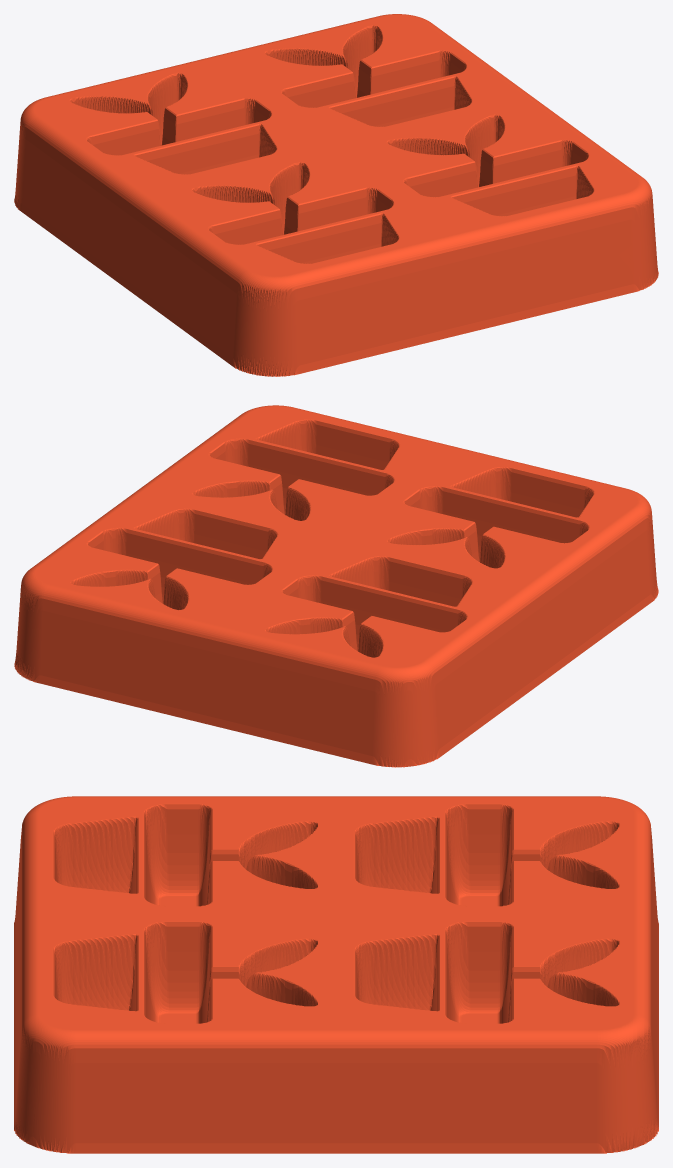
The model's file is mold.glb.
3 renders of one model, top to bottom at view 1: azimuth 30°, elevation 25°; view 2: azimuth 150°, elevation 25°; view 3: azimuth 270°, elevation 25°, orthographic. The views are drawn at different scales.
Visible parts, largest first — view 1: geometry_0; view 2: geometry_0; view 3: geometry_0.
Boxes of the visible parts, x1,y1,x2,y2 form: geometry_0: [14, 14, 658, 376]; geometry_0: [14, 405, 658, 767]; geometry_0: [14, 796, 658, 1153].
Bounding box in the file's own units: 0.0874 × 0.0182 × 0.0942.
